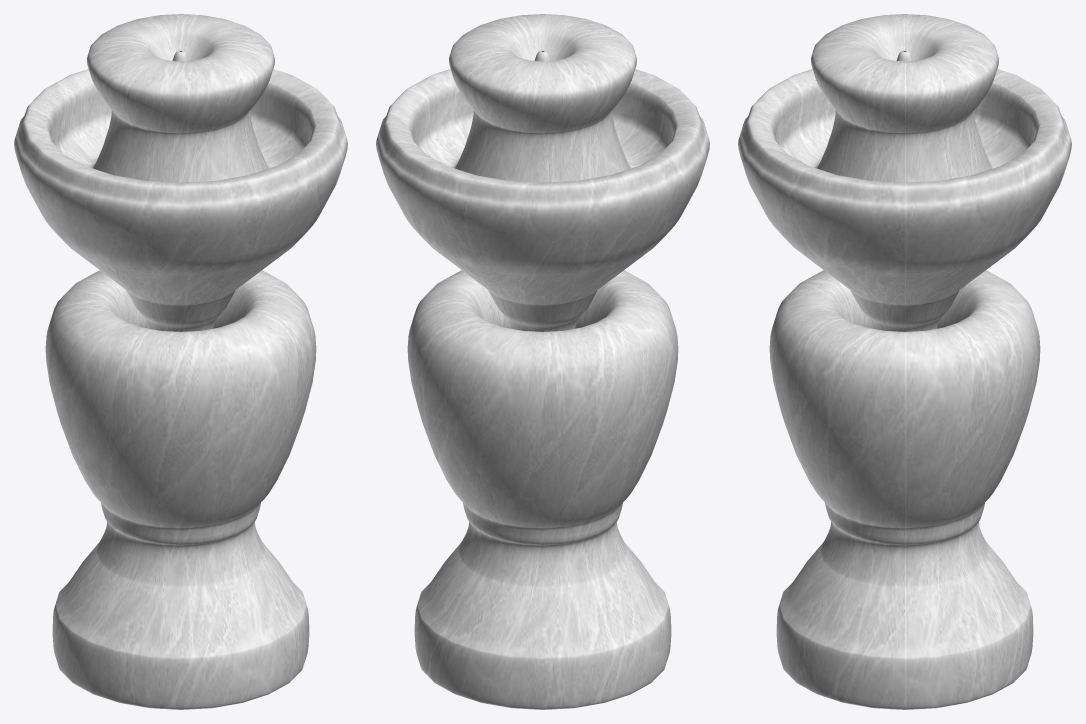
Rendered from Fountain.fbx.
The picture shows the model from 3 angles, left to right: view 1: azimuth 30°, elevation 25°; view 2: azimuth 150°, elevation 25°; view 3: azimuth 270°, elevation 25°; orthographic projection.
Parts seen in each view (by area): view 1: TopSide, Body, LowerSide; view 2: TopSide, Body, LowerSide; view 3: TopSide, Body, LowerSide.
Part boxes in pixels (box(x1,y1,x2,y2)): TopSide: box(14, 14, 347, 305); Body: box(45, 270, 316, 538); LowerSide: box(52, 508, 309, 709); TopSide: box(376, 14, 709, 305); Body: box(407, 270, 678, 538); LowerSide: box(414, 508, 671, 709); TopSide: box(738, 14, 1071, 305); Body: box(769, 270, 1040, 538); LowerSide: box(776, 508, 1033, 709).
Bounding box in the file's own units: 283 × 582 × 283.
3 materials, 3 textured.
